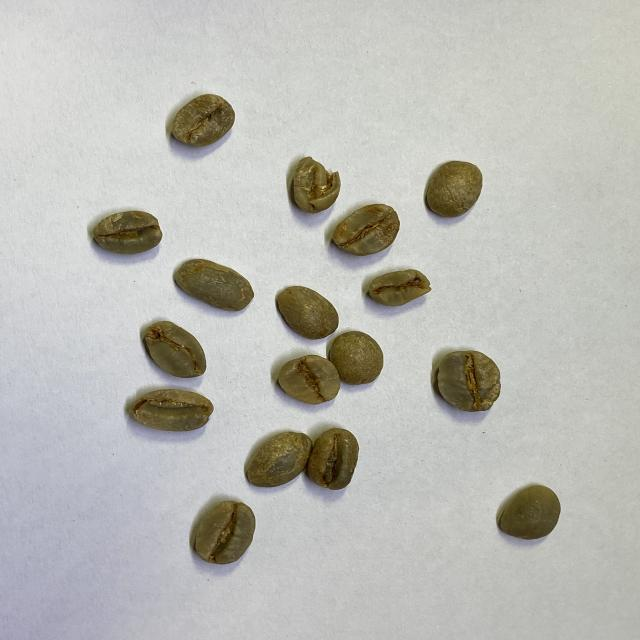bad: (142, 320, 207, 379), (131, 387, 213, 432), (310, 427, 359, 492), (292, 156, 341, 213), (369, 268, 432, 306)
good: (173, 258, 255, 313), (192, 500, 256, 564), (244, 430, 312, 489), (439, 351, 501, 412), (170, 92, 236, 148), (332, 202, 400, 256), (496, 483, 560, 540), (276, 286, 339, 340), (426, 160, 483, 218), (278, 353, 340, 404), (93, 209, 163, 254), (329, 329, 384, 386)
